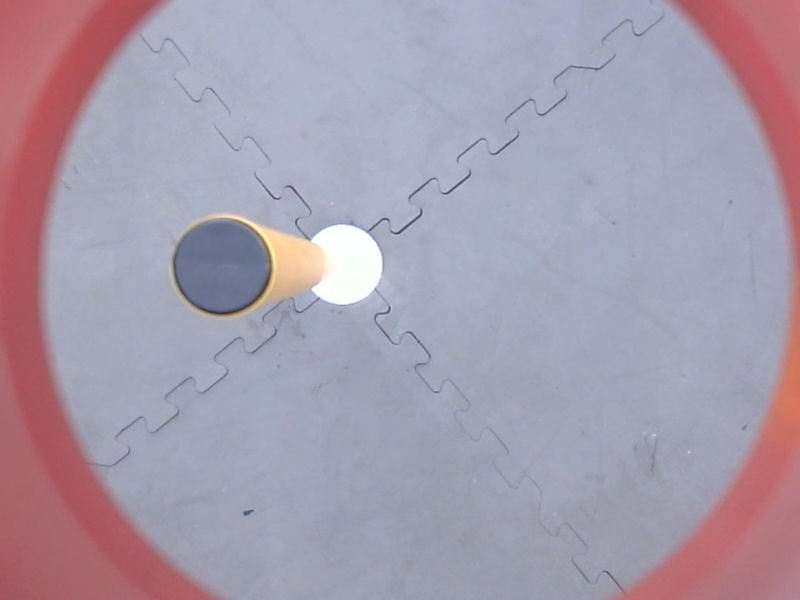tip: (164, 210, 284, 325)
